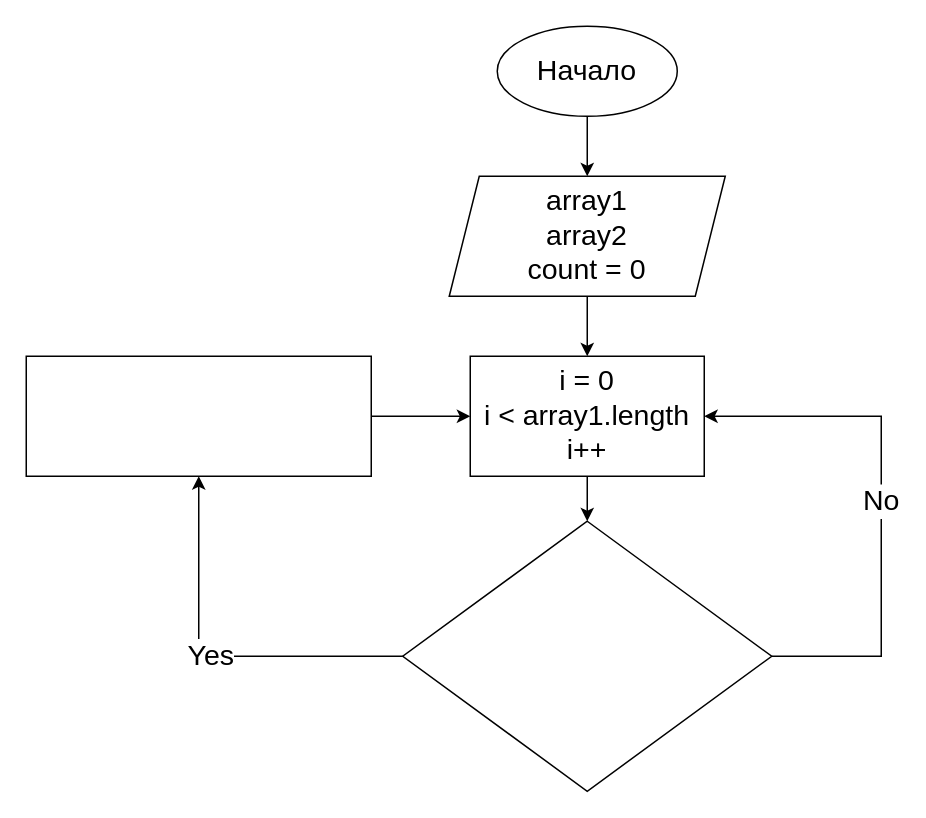
This 926x818 diagram has some shape labels left out. The shapes that lost their labels are listed below. From the top down, each one's box as (x1, y1, x2, y2) in pixels, then its label:
(25, 355, 371, 476): array2[count] = array1[i] count++
(401, 520, 772, 791): array1[i].length<=3
